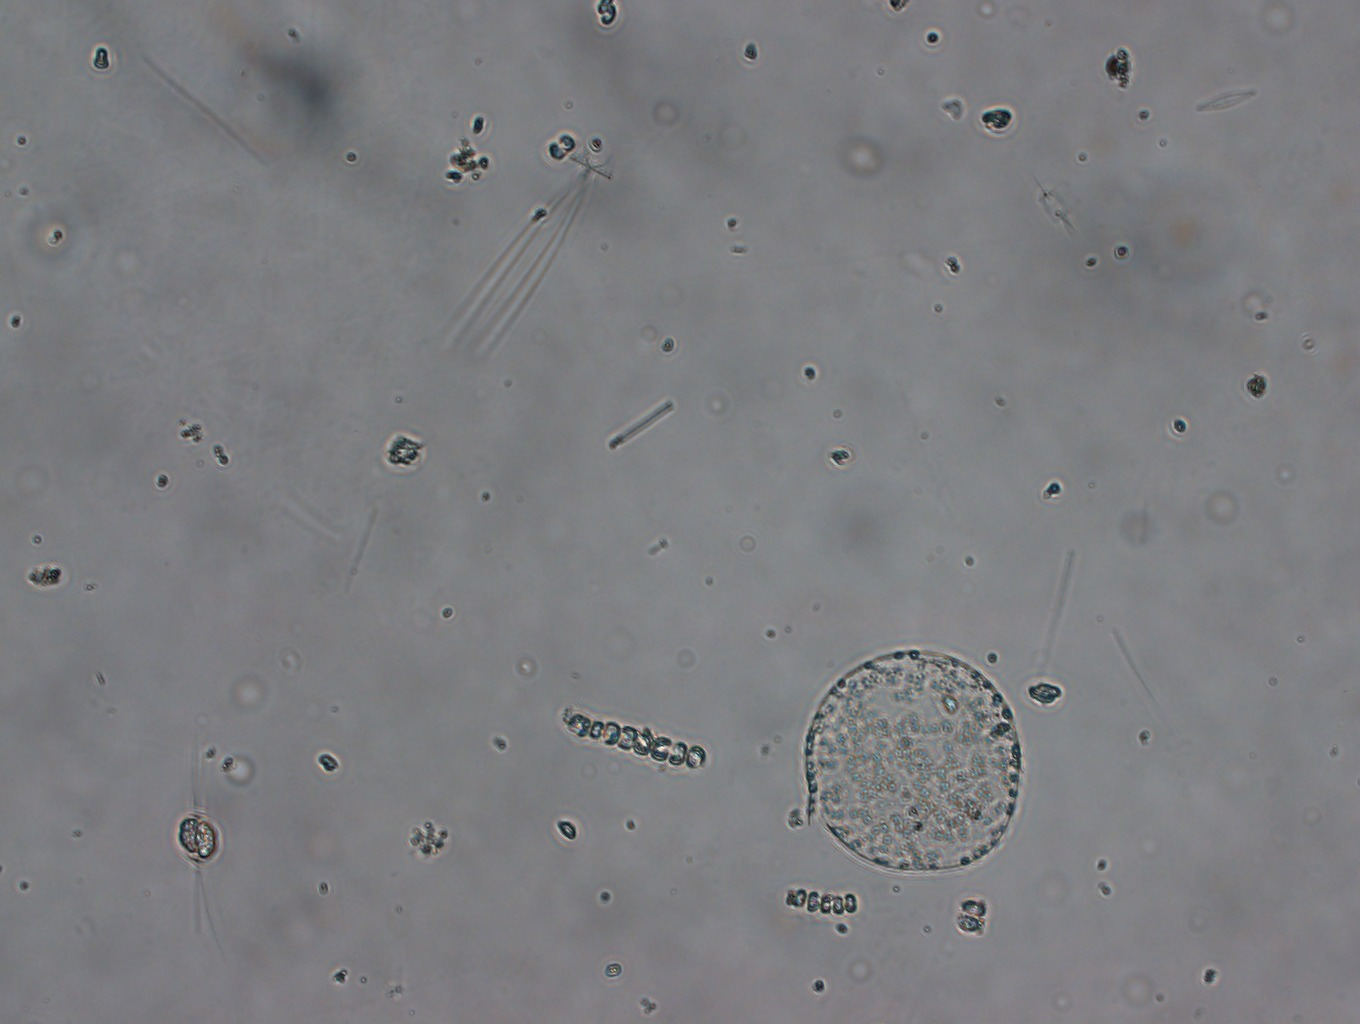coscinodiscus: (790, 643, 1029, 878)
